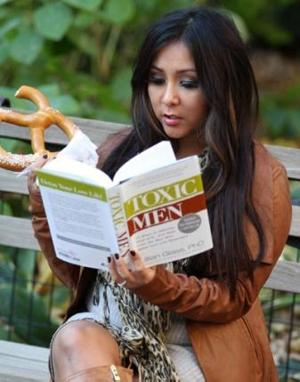person: (28, 9, 291, 382)
